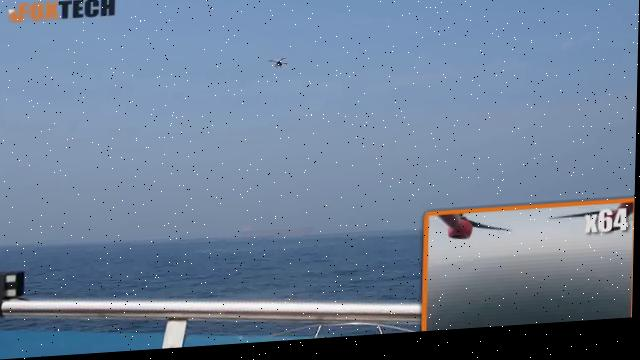drone: (241, 42, 316, 89)
